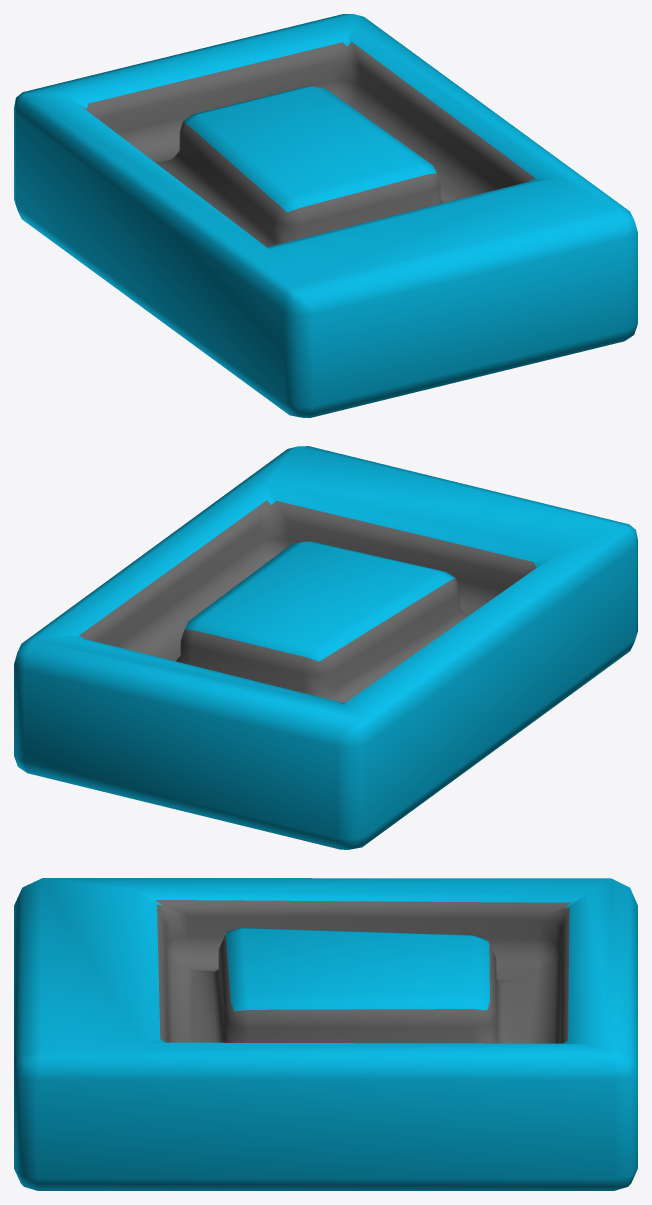
Rendered from loop.glb.
3 renders of one model, top to bottom at view 1: azimuth 30°, elevation 25°; view 2: azimuth 150°, elevation 25°; view 3: azimuth 270°, elevation 25°, orthographic. The views are drawn at different scales.
Visible parts, largest first — view 1: Cube; view 2: Cube; view 3: Cube.
Boxes of the visible parts, x1,y1,x2,y2 form: Cube: [14, 14, 637, 417]; Cube: [14, 446, 637, 849]; Cube: [14, 878, 637, 1190].
Size of the model in its own units: 0.35 by 0.125 by 0.5.
